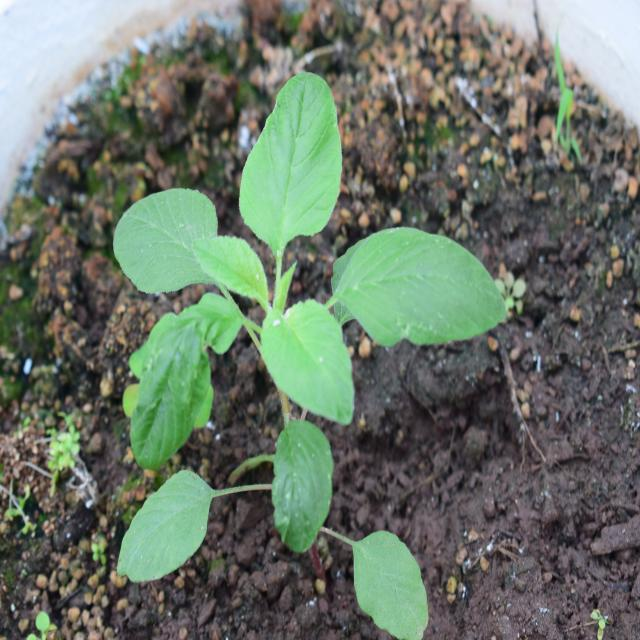pigweed: (61, 103, 468, 544)
